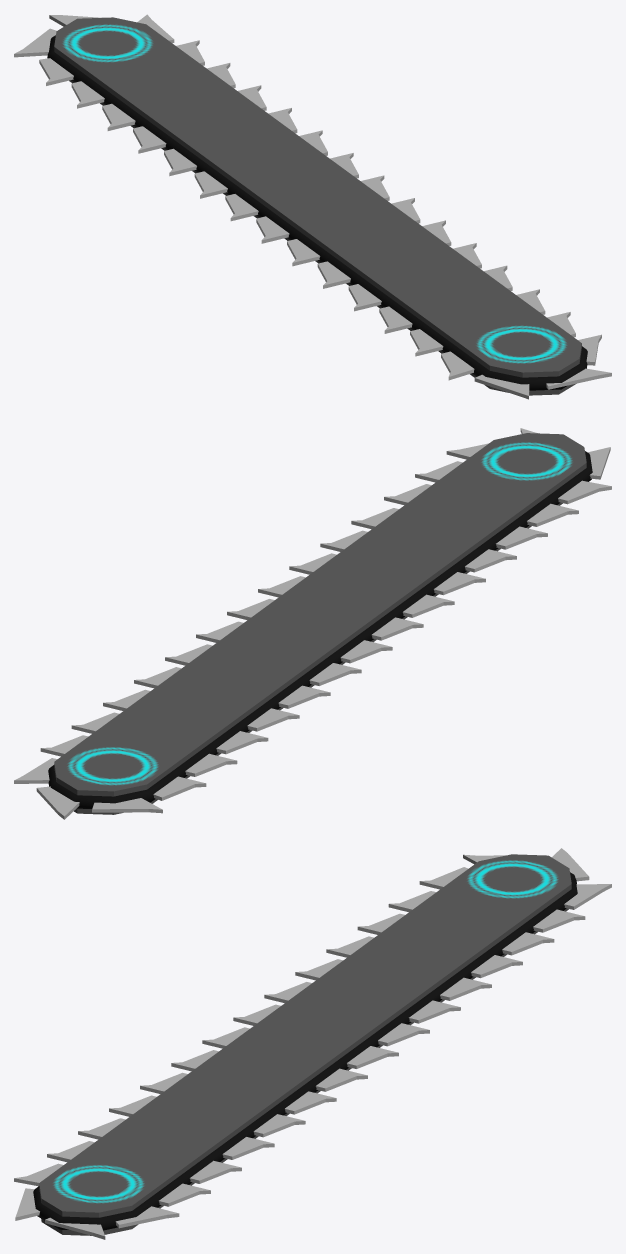
Rendered from sierra giratoria.glb.
The picture shows the model from 3 angles, top to bottom: view 1: azimuth 30°, elevation 25°; view 2: azimuth 150°, elevation 25°; view 3: azimuth 330°, elevation 25°; orthographic projection.
Visible parts, largest first — view 1: Cylinder, Cube.001, Cylinder.001; view 2: Cylinder, Cube.001, Cylinder.001; view 3: Cylinder, Cube.001, Cylinder.001.
Boxes of the visible parts, bbox=[...] form: Cylinder: bbox=[54, 17, 581, 395]; Cube.001: bbox=[14, 14, 611, 399]; Cylinder.001: bbox=[47, 35, 587, 390]; Cylinder: bbox=[54, 433, 586, 814]; Cube.001: bbox=[14, 428, 611, 819]; Cylinder.001: bbox=[48, 451, 592, 808]; Cylinder: bbox=[39, 854, 571, 1235]; Cube.001: bbox=[14, 848, 611, 1239]; Cylinder.001: bbox=[33, 872, 577, 1230].
Size of the model in its own units: 2.69 by 0.377 by 14.98.
3 materials, 1 textured.
